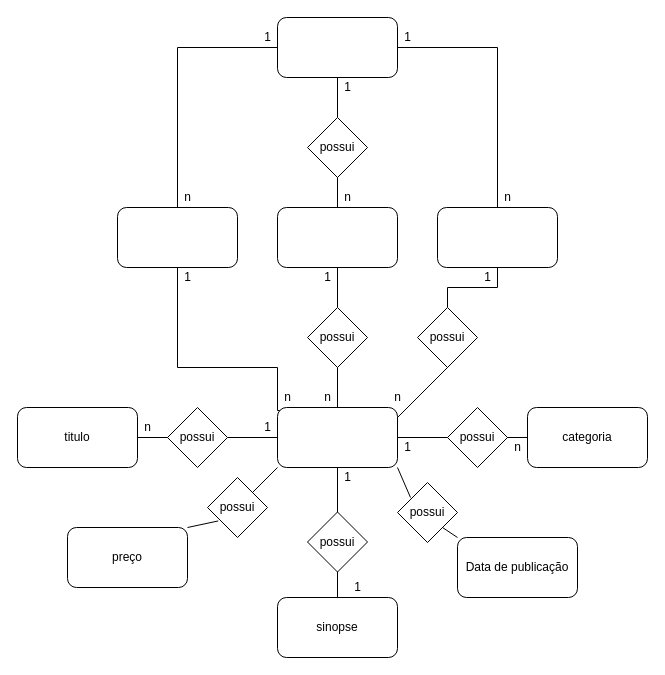
Some shapes in this 665 by 675 pixel diagram are drawn without their labels. The centre of each missing label's shape, as x and y in pixels:
Admin: (337,237)
Autor: (497,237)
Cliente: (177,237)
Empresa: (337,47)
Livro: (337,437)
